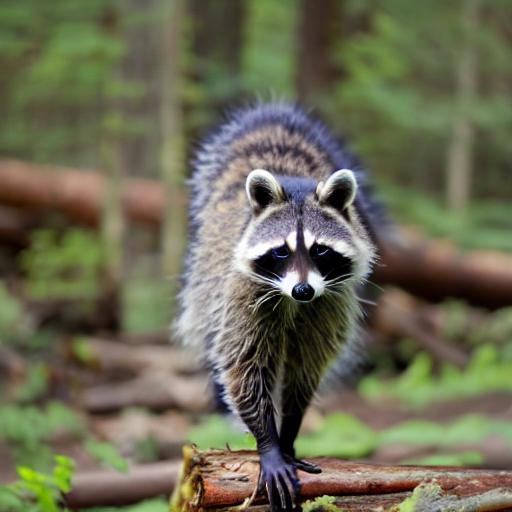raccoon: (169, 89, 387, 408)
